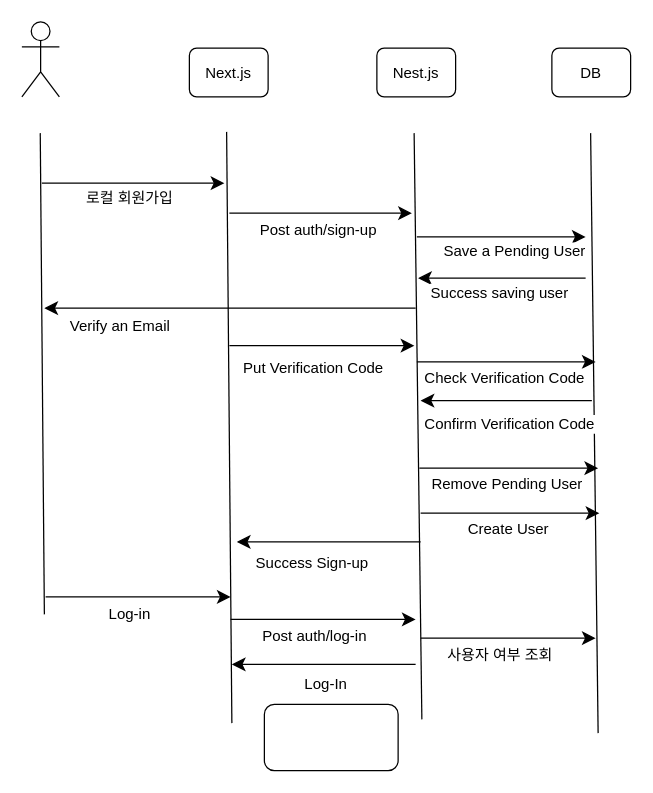
Image size: 653x793. Some labels were removed from this diagram. The box of each missing label's shape, as (x1, y1, x2, y2) in pixels:
Refresth Token access token 쿠키에 전달: (263, 703, 398, 771)
User: (21, 21, 59, 97)
